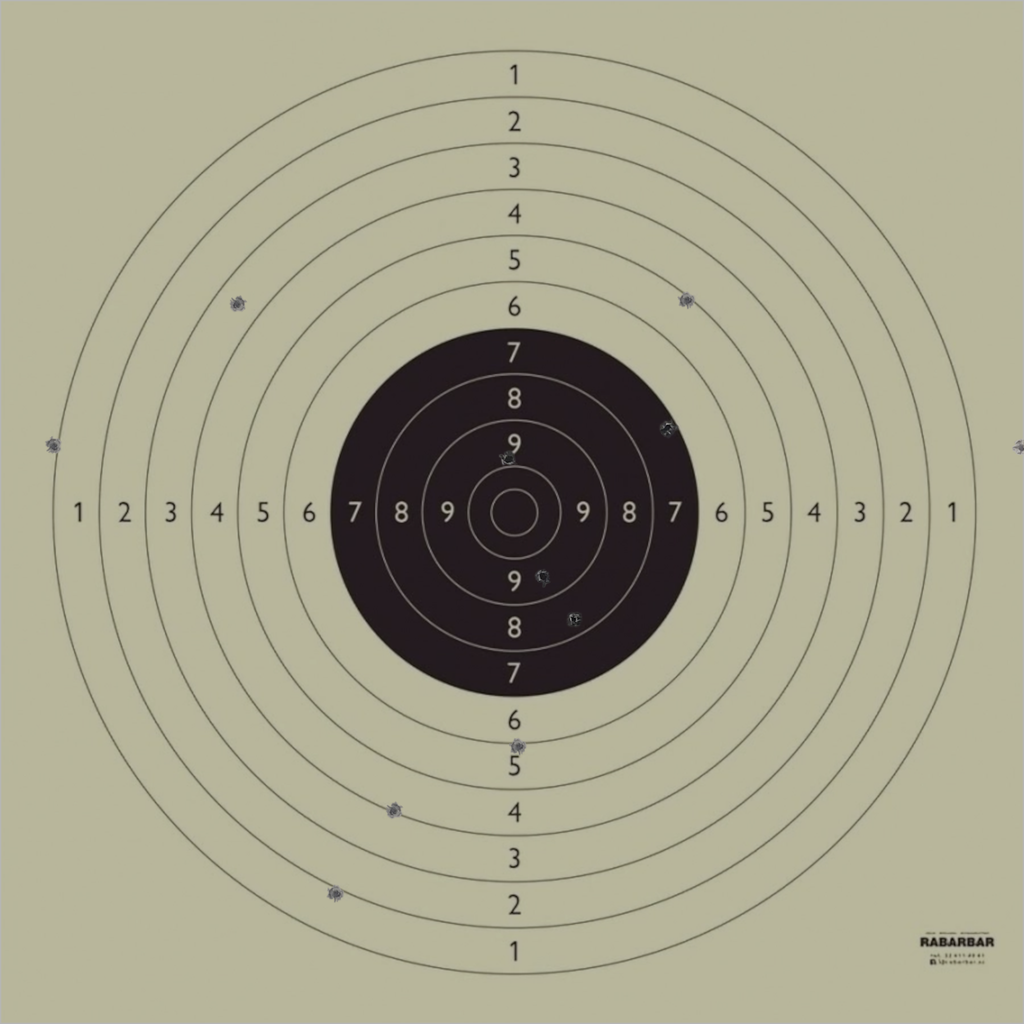0 punktow: (1012, 439, 1024, 457)
1 punkt: (45, 437, 63, 455)
10 punktow: (499, 450, 518, 469)
2 punkty: (327, 885, 345, 903)
3 punkty: (228, 295, 246, 314)
4 punkty: (384, 802, 403, 820)
5 punktow: (678, 291, 697, 310)
6 punktow: (510, 737, 528, 756)
7 punktow: (659, 418, 677, 437)
8 punktow: (564, 610, 583, 628)
9 punktow: (534, 568, 552, 586)
